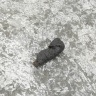Dog: (32, 38, 65, 68)
